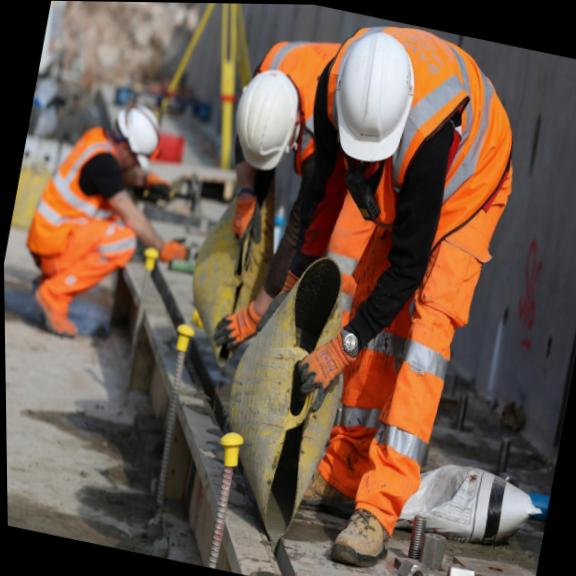safety_vest: (351, 27, 523, 306), (31, 118, 133, 264), (246, 16, 346, 145)
